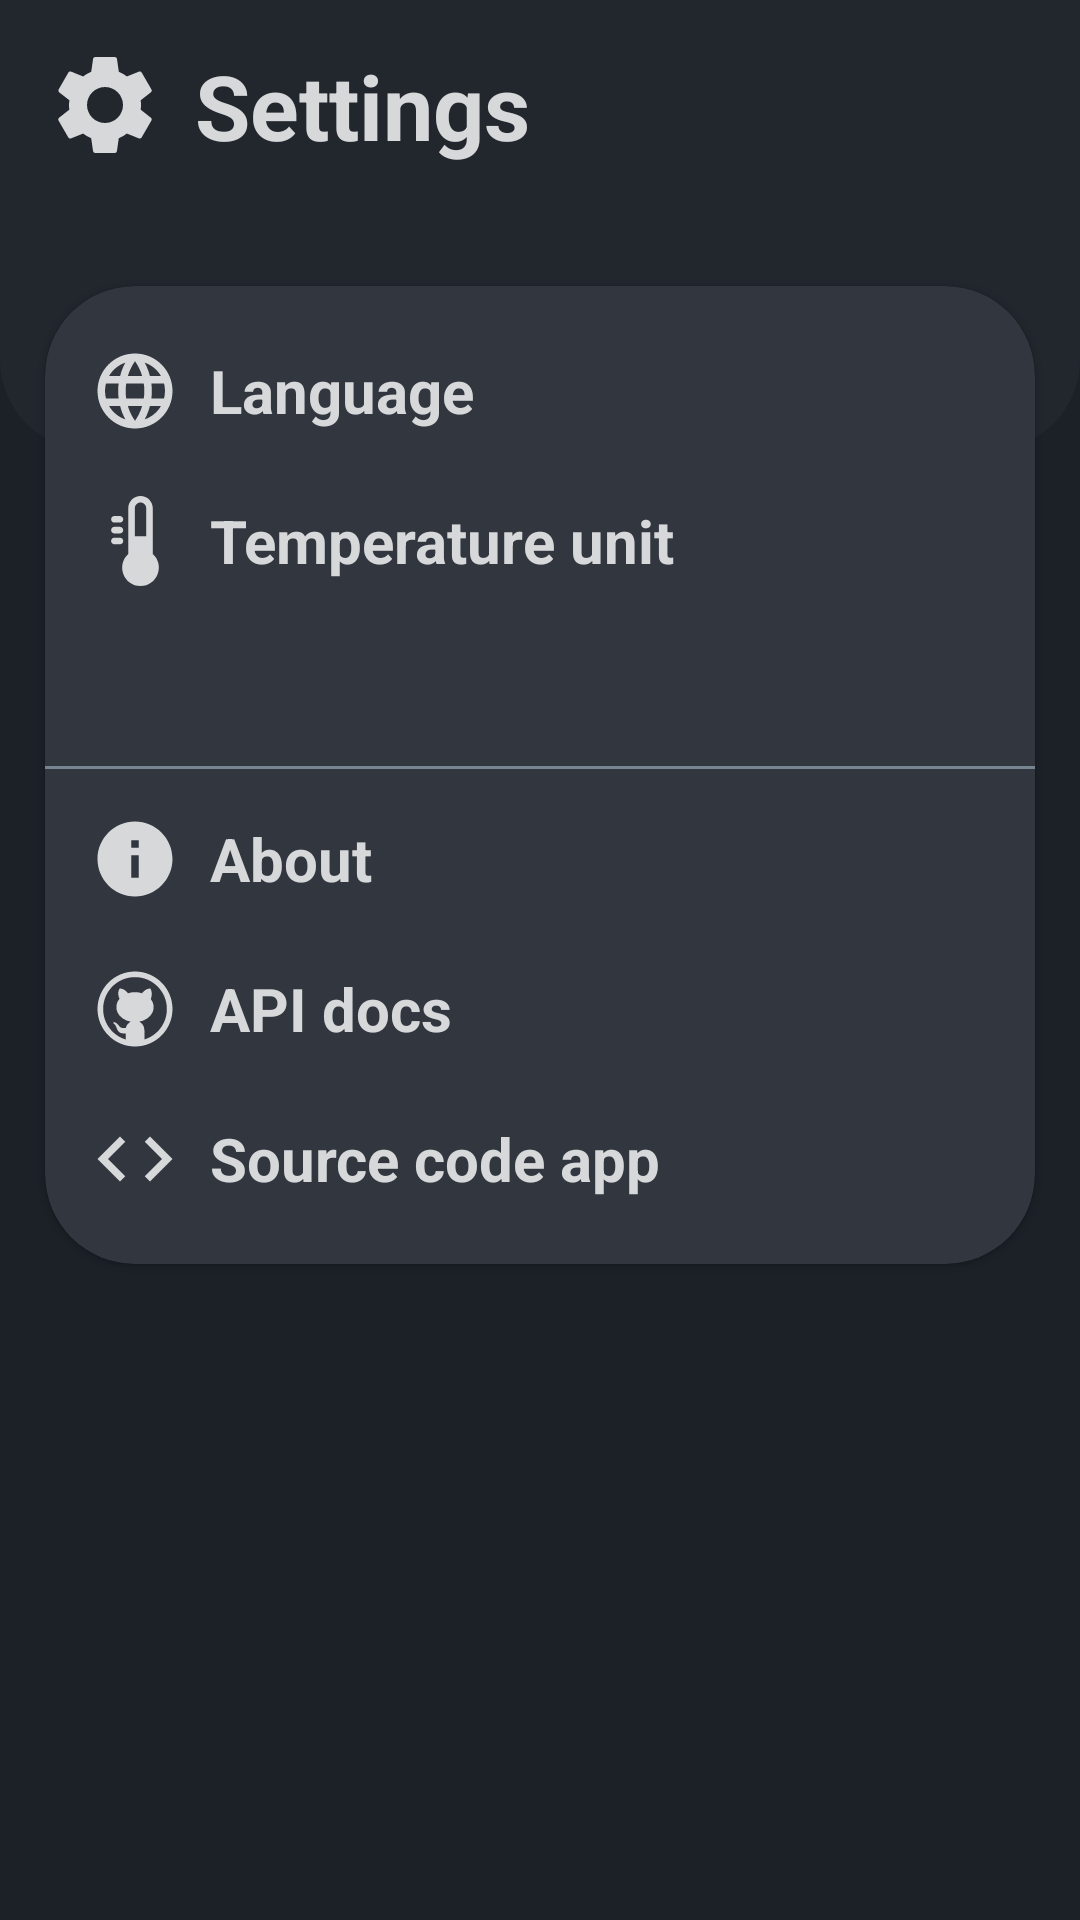

Where icons sit on this 1080x1920 app screen, as (x1, y1, x2, y2):
info: (97, 821, 173, 897)
